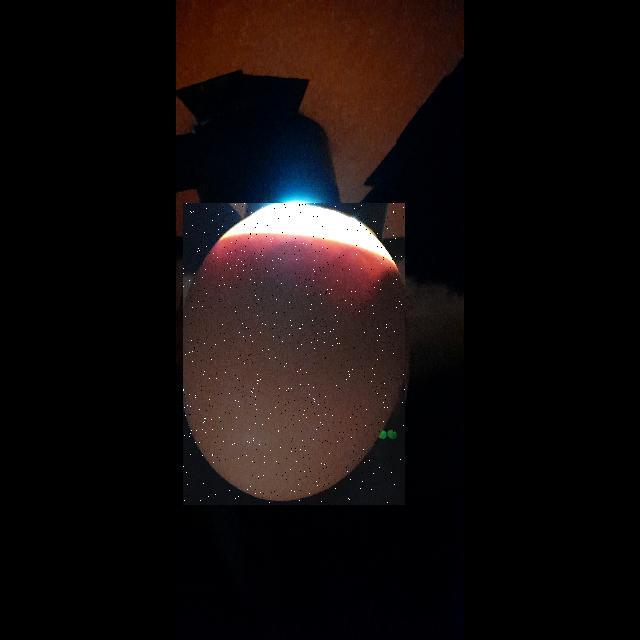Fertile: (183, 203, 405, 505)
